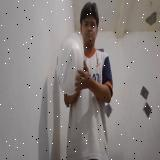Helmet: (57, 31, 85, 96)
